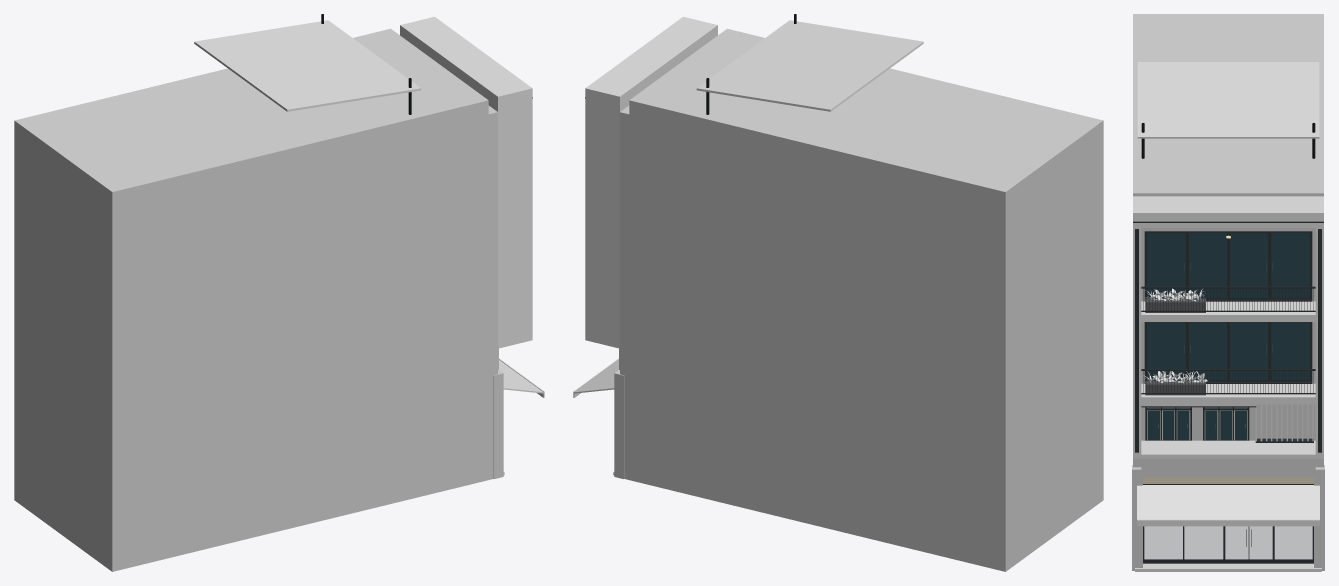
The model's file is OW_Mau_NhaPho_7_0_1_B.fbx.
3 views of the same model, side by side, from view 1: azimuth 30°, elevation 25°; view 2: azimuth 150°, elevation 25°; view 3: azimuth 270°, elevation 25° (orthographic). The views are drawn at different scales.
Parts seen in each view (by area): view 1: OW_NhaPho_9035; view 2: OW_NhaPho_9035; view 3: OW_NhaPho_9035, OW_MatTienKinh.
Part boxes in pixels (box(x1,y1,x2,y2)): OW_NhaPho_9035: box(14, 14, 544, 571); OW_NhaPho_9035: box(573, 14, 1103, 571); OW_NhaPho_9035: box(1132, 14, 1324, 571); OW_MatTienKinh: box(1143, 477, 1313, 563).
Size of the model in its own units: 17.77 by 16.31 by 7.
